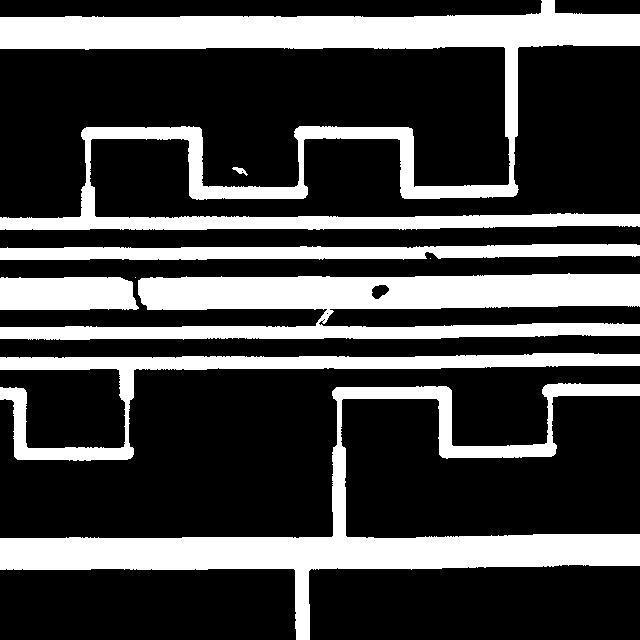copper: (362, 275, 398, 308)
open: (306, 298, 343, 338)
pin-hole: (222, 157, 257, 185)
short: (104, 260, 156, 322)
spur: (415, 242, 448, 273)
